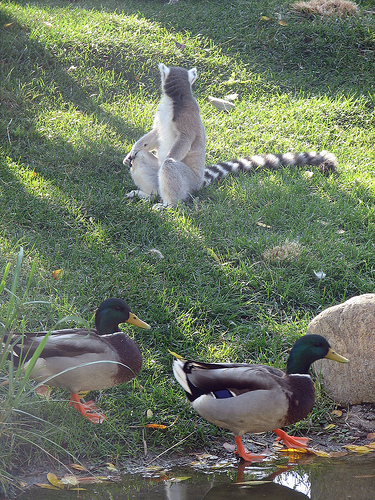cat: (118, 56, 343, 216)
